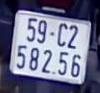2: (43, 46, 54, 76), (68, 23, 78, 50)
5: (56, 47, 69, 76), (26, 14, 37, 43), (16, 41, 26, 70)
6: (70, 53, 83, 77)
8: (28, 45, 39, 72)
9: (37, 18, 50, 46)
C: (56, 19, 69, 49)
